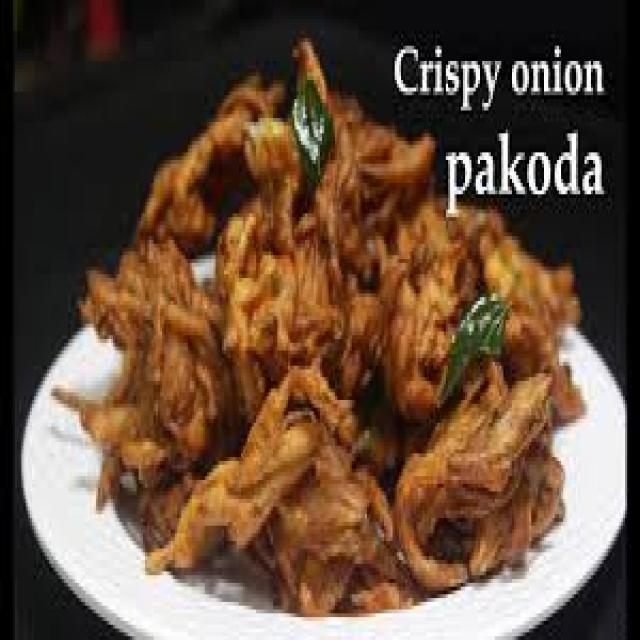BAJI: (42, 36, 589, 631)
